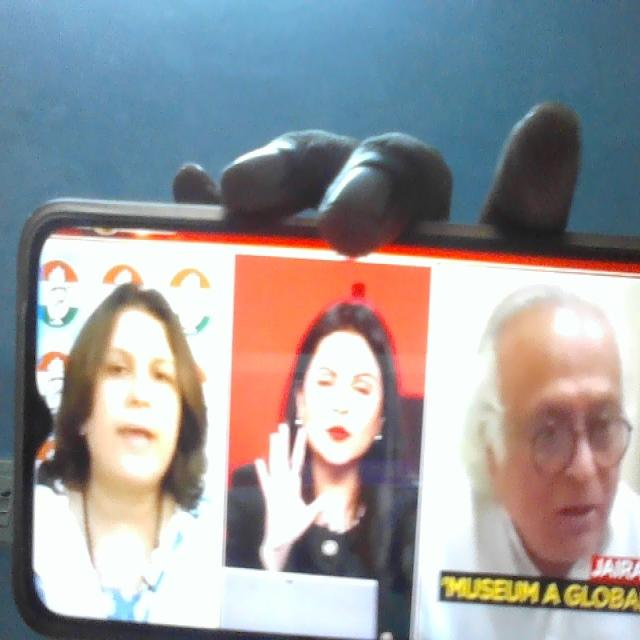fake: (477, 276, 639, 581), (70, 256, 196, 493)
